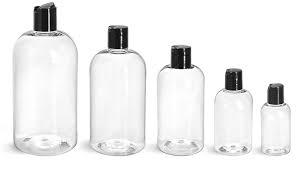Container for household chemicals: (11, 1, 79, 163), (91, 13, 148, 168), (156, 31, 207, 163), (213, 49, 256, 161), (258, 66, 292, 162)
